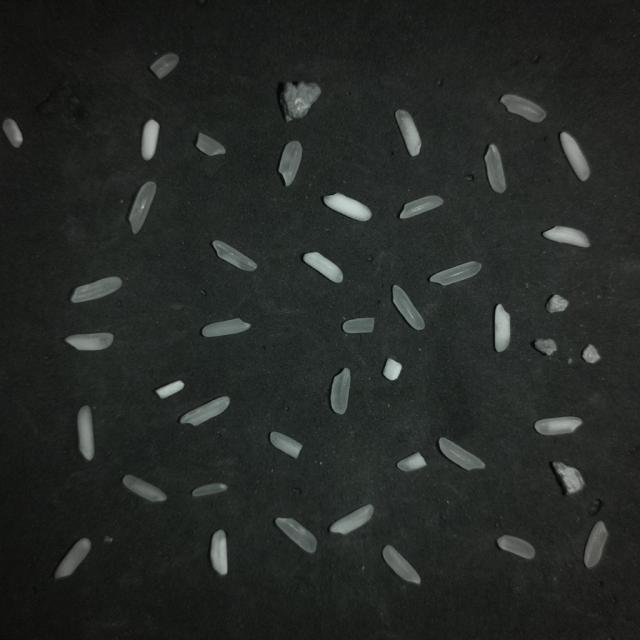broken: (497, 535, 534, 559), (495, 304, 510, 352), (150, 53, 178, 78), (3, 119, 23, 148), (197, 135, 224, 156), (342, 317, 374, 333), (192, 483, 227, 497), (383, 358, 402, 381)
chalky: (560, 132, 589, 181), (324, 193, 371, 221), (330, 504, 373, 534), (303, 252, 343, 283), (395, 110, 421, 156), (542, 226, 589, 248), (77, 405, 94, 460), (270, 432, 302, 458), (65, 333, 113, 350), (210, 530, 228, 575), (535, 417, 581, 434), (142, 119, 159, 160), (397, 452, 426, 471), (155, 380, 184, 398)
foreign: (280, 82, 321, 122), (552, 462, 584, 494), (546, 295, 568, 313), (534, 339, 556, 355), (582, 344, 600, 363)
whole: (383, 545, 420, 584), (55, 538, 91, 578), (275, 518, 316, 553), (180, 396, 229, 425), (392, 285, 424, 329), (439, 438, 484, 469), (212, 240, 257, 271), (129, 182, 156, 233), (71, 277, 122, 303), (500, 95, 546, 123), (430, 261, 481, 286), (122, 475, 166, 501), (584, 521, 608, 568), (279, 141, 302, 186), (485, 144, 506, 193), (400, 196, 443, 219), (202, 319, 251, 337), (331, 369, 350, 414)
